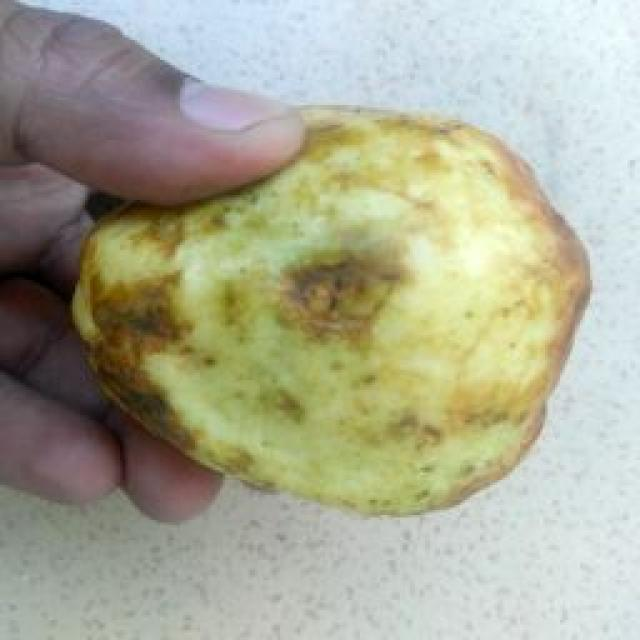Bad_Guava: (72, 109, 586, 513)
